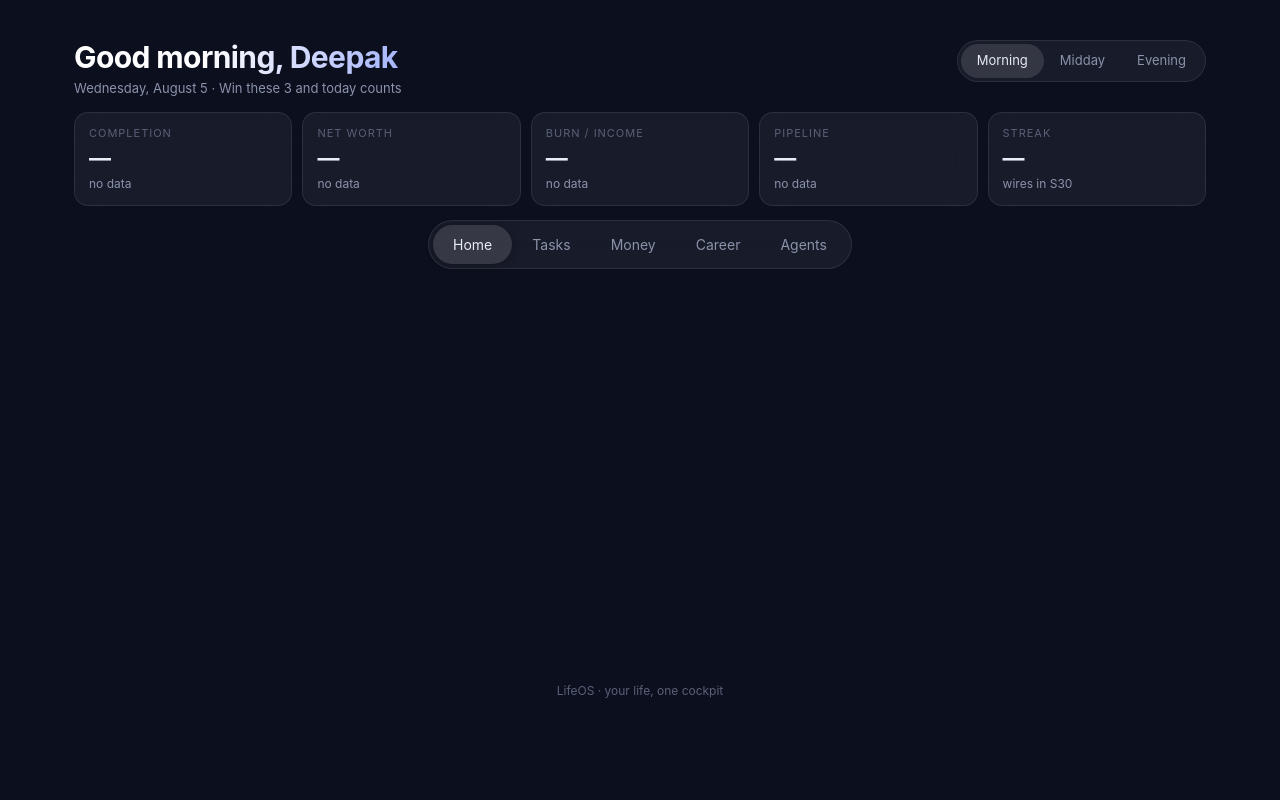
Test: S24 cockpit shell › shows exactly one section and switches on tab click
Click the button "Money" at (633, 244), box [591, 224, 676, 264]
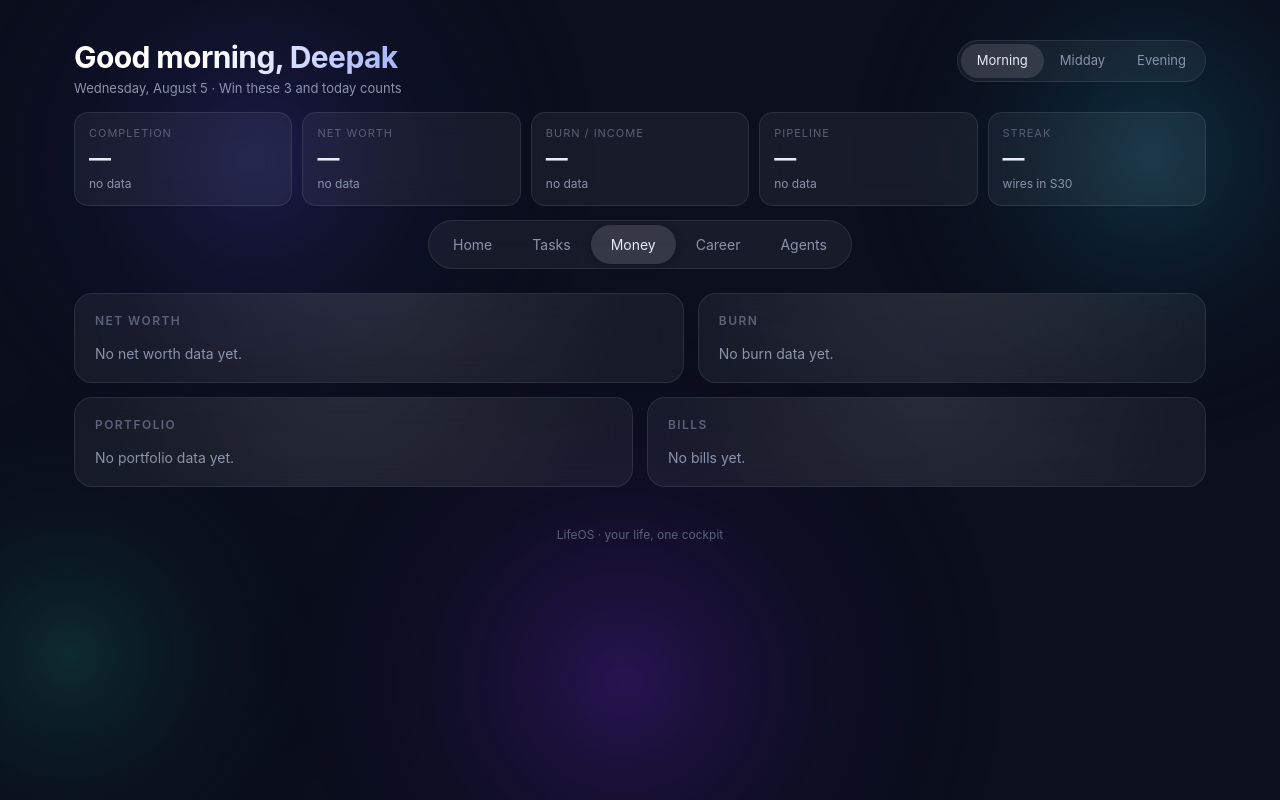
Check: the element with test id "money-networth-card" is shown, box [74, 292, 684, 382]
Click the button "Agents" at (804, 244), box [760, 224, 847, 264]
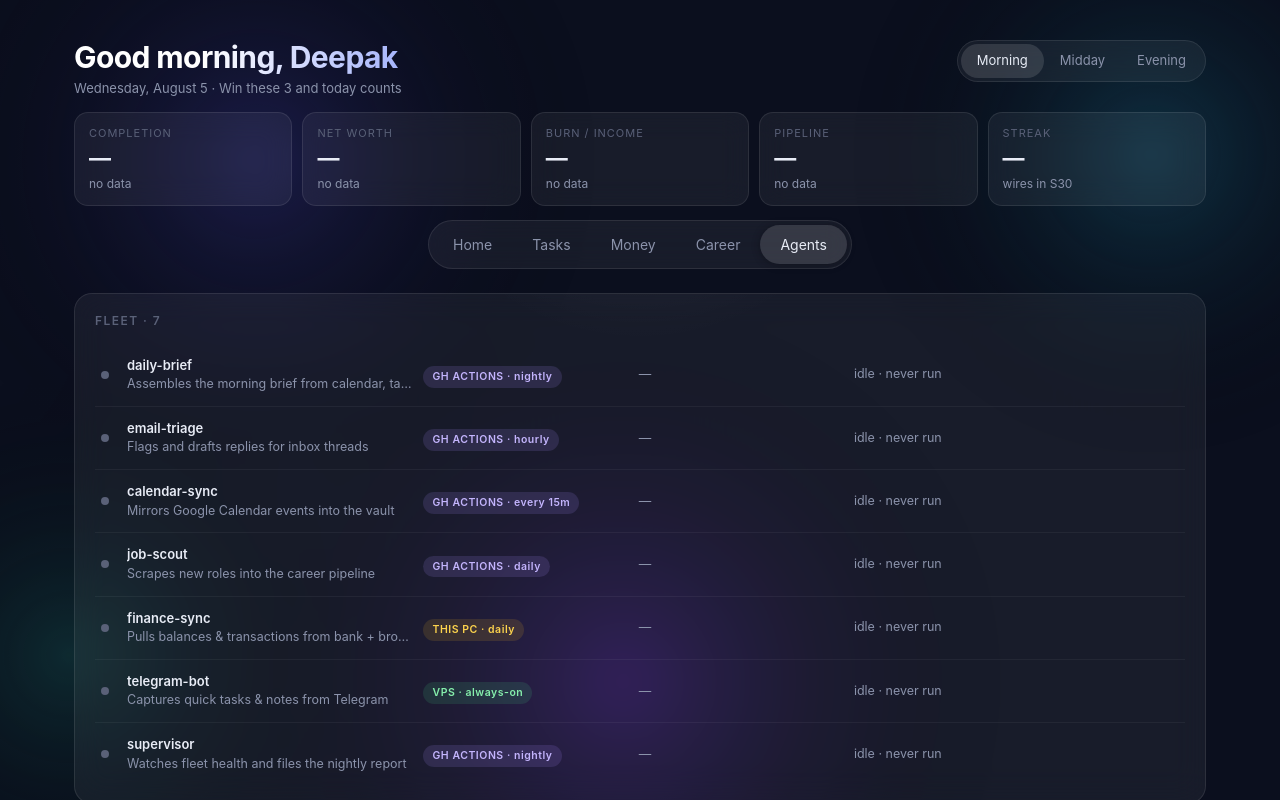
Check: the table with test id "fleet-table" is shown, box [95, 344, 1185, 785]
Check: the element with test id "money-networth-card" is gone
